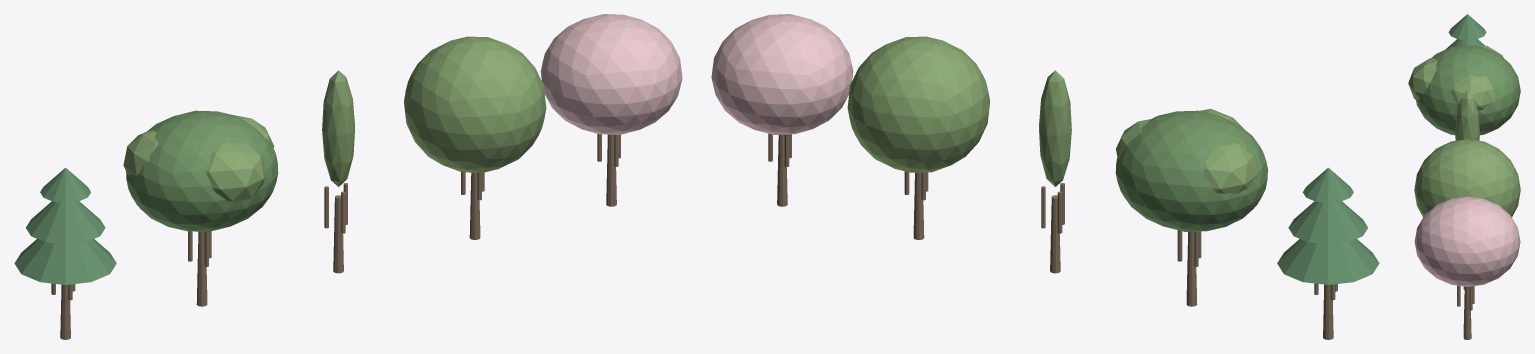
Rendered from ENV_TREE_CLUSTER.glb.
3 views of the same model, side by side, from view 1: azimuth 30°, elevation 25°; view 2: azimuth 150°, elevation 25°; view 3: azimuth 270°, elevation 25° (orthographic). The views are drawn at different scales.
Visible parts, largest first — view 1: Tree_Leaves.003, Tree_Leaves.004, Tree_Leaves.001, Tree_Leaves, Tree_Leaves2, Tree_Leaves.002, Tree_Trunk.002, Tree_Trunk.001, Tree_Trunk.004, Tree_Trunk.003, Tree_Trunk; view 2: Tree_Leaves.003, Tree_Leaves.004, Tree_Leaves.001, Tree_Leaves, Tree_Leaves.002, Tree_Leaves2, Tree_Trunk.002, Tree_Trunk.001, Tree_Trunk.004, Tree_Trunk.003, Tree_Trunk; view 3: Tree_Leaves.004, Tree_Leaves.003, Tree_Leaves.001, Tree_Leaves2, Tree_Leaves.002, Tree_Leaves, Tree_Trunk.004.
Part boxes in pixels (x1=…): Tree_Leaves.003: x1=403, y1=36, x2=546, y2=172; Tree_Leaves.004: x1=540, y1=14, x2=682, y2=134; Tree_Leaves.001: x1=126, y1=110, x2=278, y2=231; Tree_Leaves: x1=14, y1=167, x2=116, y2=284; Tree_Leaves2: x1=123, y1=115, x2=273, y2=202; Tree_Leaves.002: x1=322, y1=70, x2=354, y2=186; Tree_Trunk.002: x1=324, y1=183, x2=347, y2=273; Tree_Trunk.001: x1=188, y1=231, x2=211, y2=306; Tree_Trunk.004: x1=597, y1=134, x2=620, y2=206; Tree_Trunk.003: x1=461, y1=172, x2=484, y2=239; Tree_Trunk: x1=51, y1=283, x2=75, y2=339; Tree_Leaves.003: x1=847, y1=36, x2=990, y2=172; Tree_Leaves.004: x1=711, y1=14, x2=853, y2=134; Tree_Leaves.001: x1=1115, y1=110, x2=1267, y2=231; Tree_Leaves: x1=1277, y1=167, x2=1379, y2=284; Tree_Leaves.002: x1=1039, y1=70, x2=1071, y2=186; Tree_Leaves2: x1=1116, y1=108, x2=1257, y2=194; Tree_Trunk.002: x1=1041, y1=183, x2=1064, y2=273; Tree_Trunk.001: x1=1177, y1=230, x2=1201, y2=306; Tree_Trunk.004: x1=768, y1=133, x2=791, y2=206; Tree_Trunk.003: x1=904, y1=171, x2=928, y2=239; Tree_Trunk: x1=1314, y1=283, x2=1337, y2=339; Tree_Leaves.004: x1=1414, y1=196, x2=1520, y2=286; Tree_Leaves.003: x1=1414, y1=139, x2=1520, y2=217; Tree_Leaves.001: x1=1416, y1=45, x2=1520, y2=135; Tree_Leaves2: x1=1408, y1=45, x2=1503, y2=110; Tree_Leaves.002: x1=1455, y1=90, x2=1479, y2=140; Tree_Leaves: x1=1445, y1=14, x2=1486, y2=49; Tree_Trunk.004: x1=1457, y1=285, x2=1474, y2=339.
Bounding box in the file's own units: 28.67 × 8.44 × 5.77.
